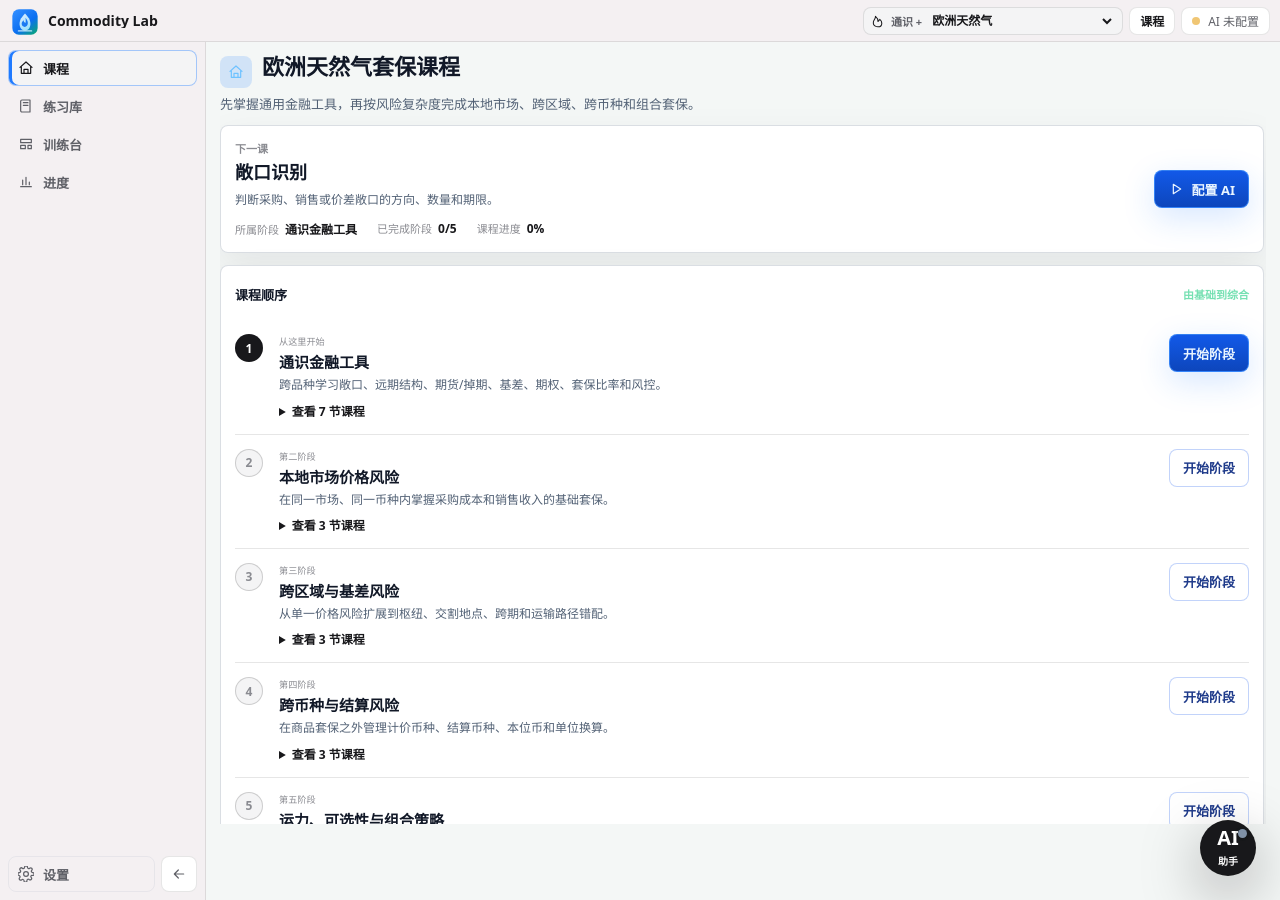
it: Commodity Lab shell › keeps the workbench empty until a crude replay or case is opened
Step 1. Select "原油" in the dropdown named "课程产品" → (1022, 20), box [928,8,1115,34]
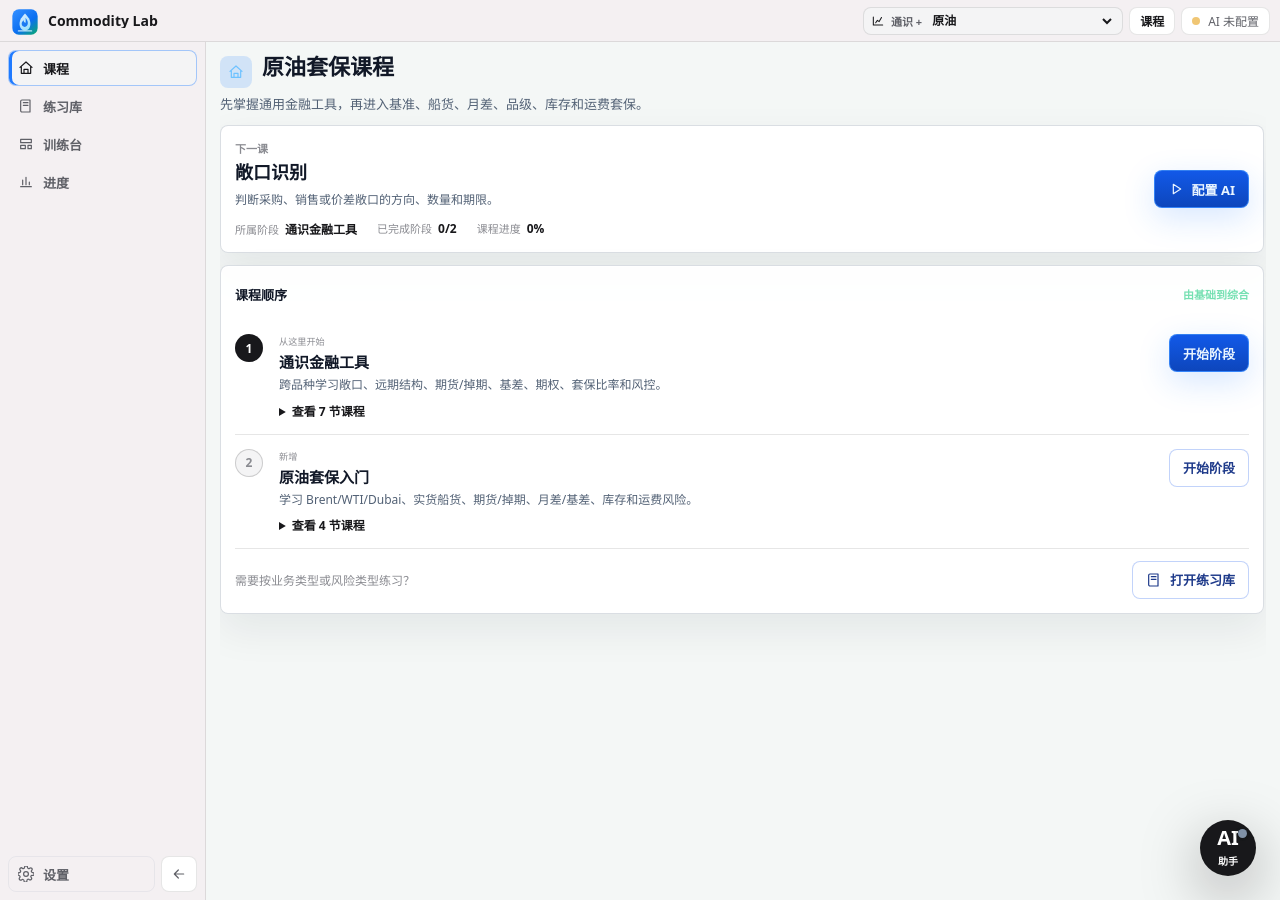
Step 2. Click the button "练习库" → (102, 106), box [8,88,197,124]
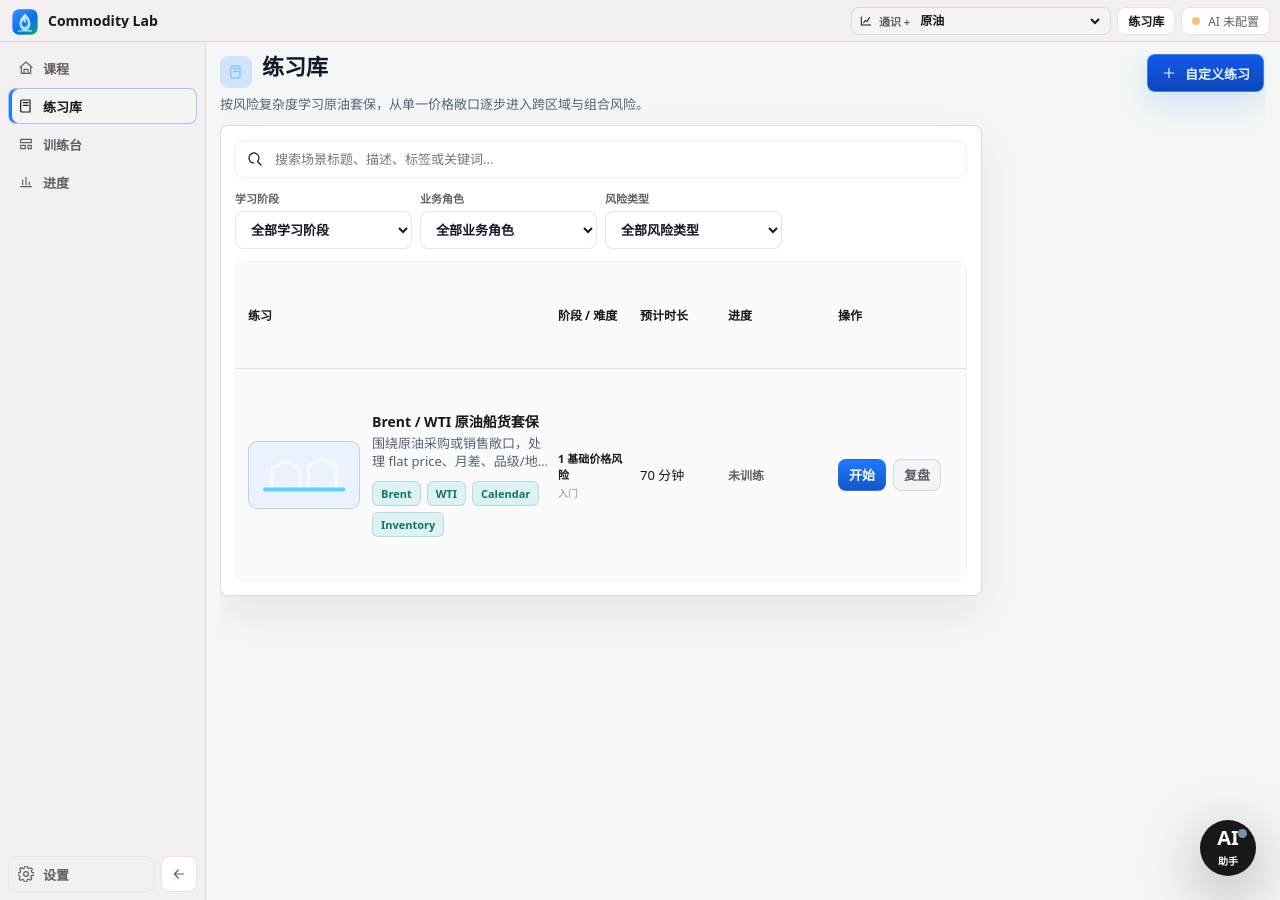
Step 3. Click the button "自定义练习" → (1206, 73), box [1147,54,1264,92]
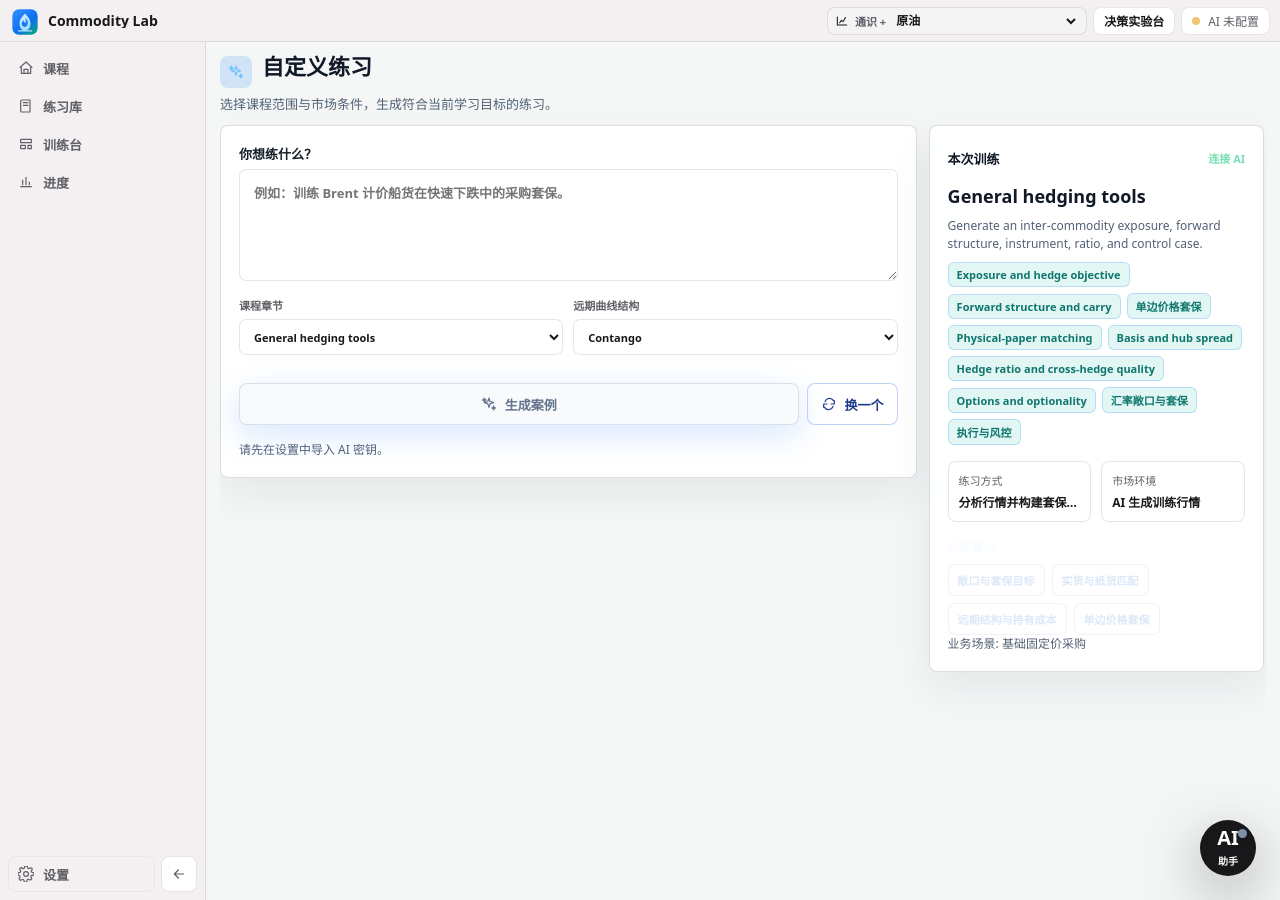
Step 4. Click the button "训练台" → (102, 144), box [8,126,197,162]
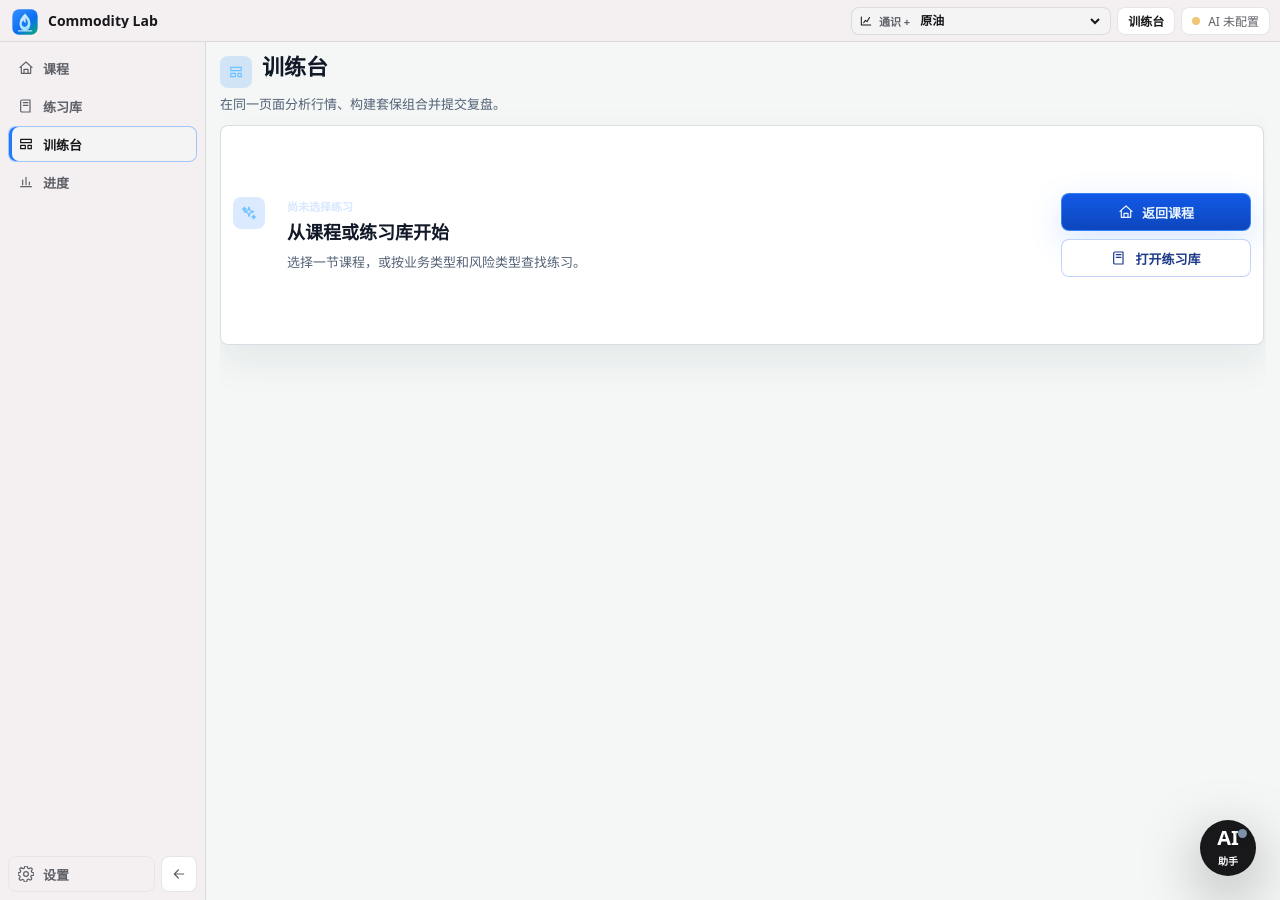
Now the text "尚未选择练习" is shown, box [287,199,353,214]
Now the button "返回课程" is shown, box [1061,193,1251,231]
Now the button "打开练习库" is shown, box [1061,239,1251,277]
